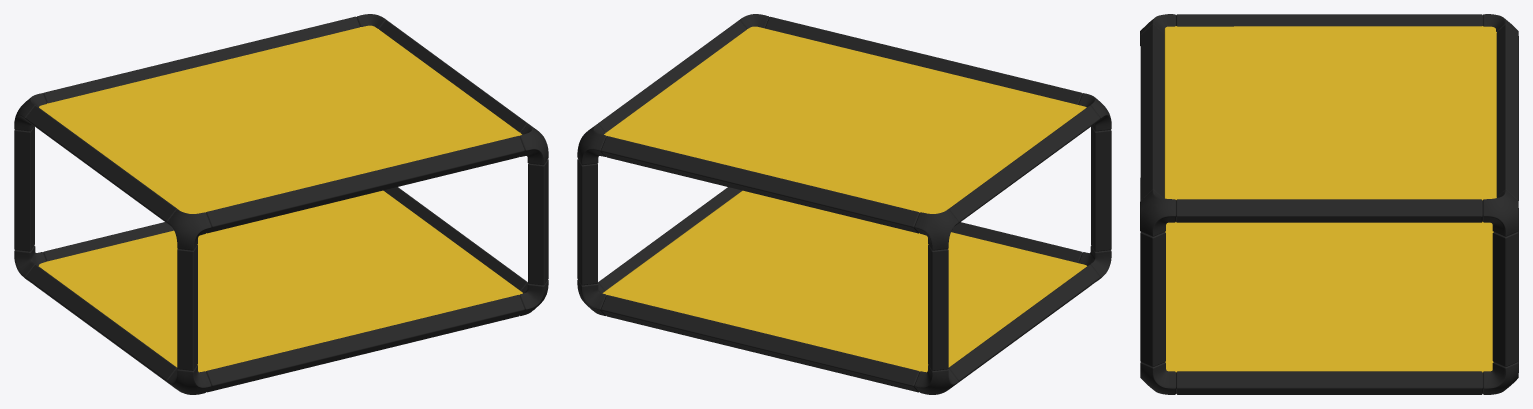
The picture shows the model from 3 angles, left to right: view 1: azimuth 30°, elevation 25°; view 2: azimuth 150°, elevation 25°; view 3: azimuth 270°, elevation 25°; orthographic projection. The views are drawn at different scales.
Parts seen in each view (by area): view 1: 420x329x154; view 2: 420x329x154; view 3: 420x329x154.
Part boxes in pixels (x1=…): 420x329x154: x1=14, y1=14, x2=548, y2=394; 420x329x154: x1=577, y1=14, x2=1111, y2=394; 420x329x154: x1=1140, y1=14, x2=1518, y2=394.
Bounding box in the file's own units: 0.4977 × 0.2317 × 0.4063.
